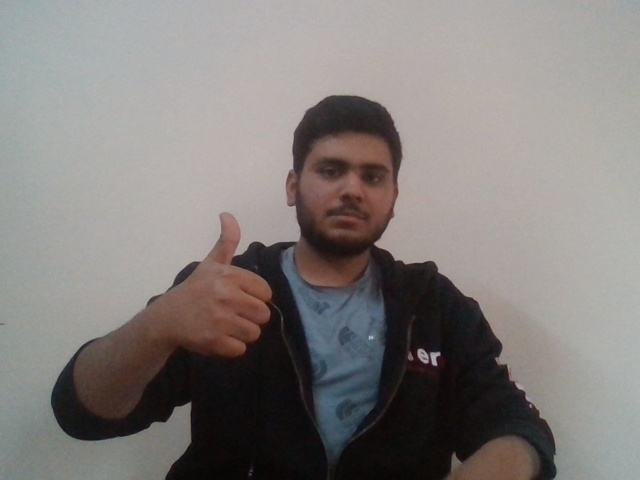Yes: (165, 206, 277, 366)
